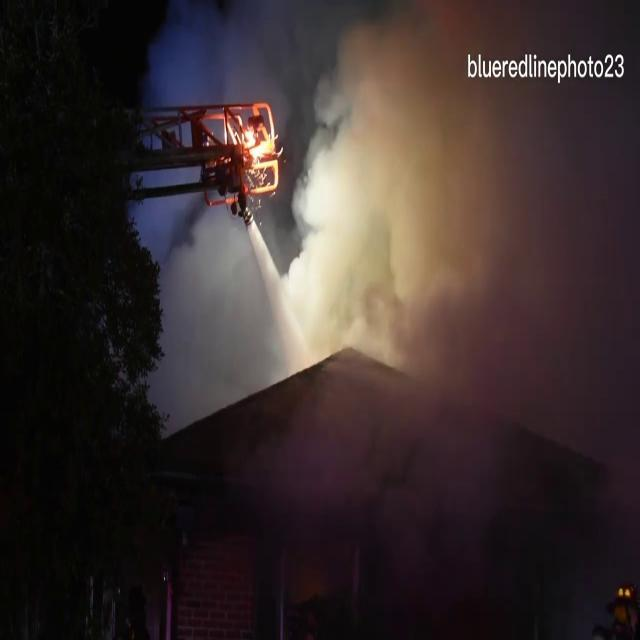Fire: (230, 104, 286, 195)
Smoke: (278, 2, 640, 380)
